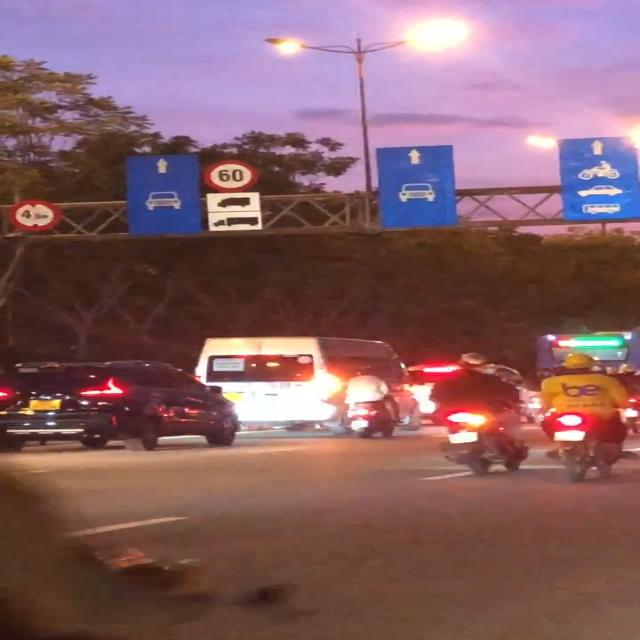Bien bao han che chieu cao: (8, 200, 67, 233)
Bien bao toc do toi da cho phep: (200, 157, 260, 194)
